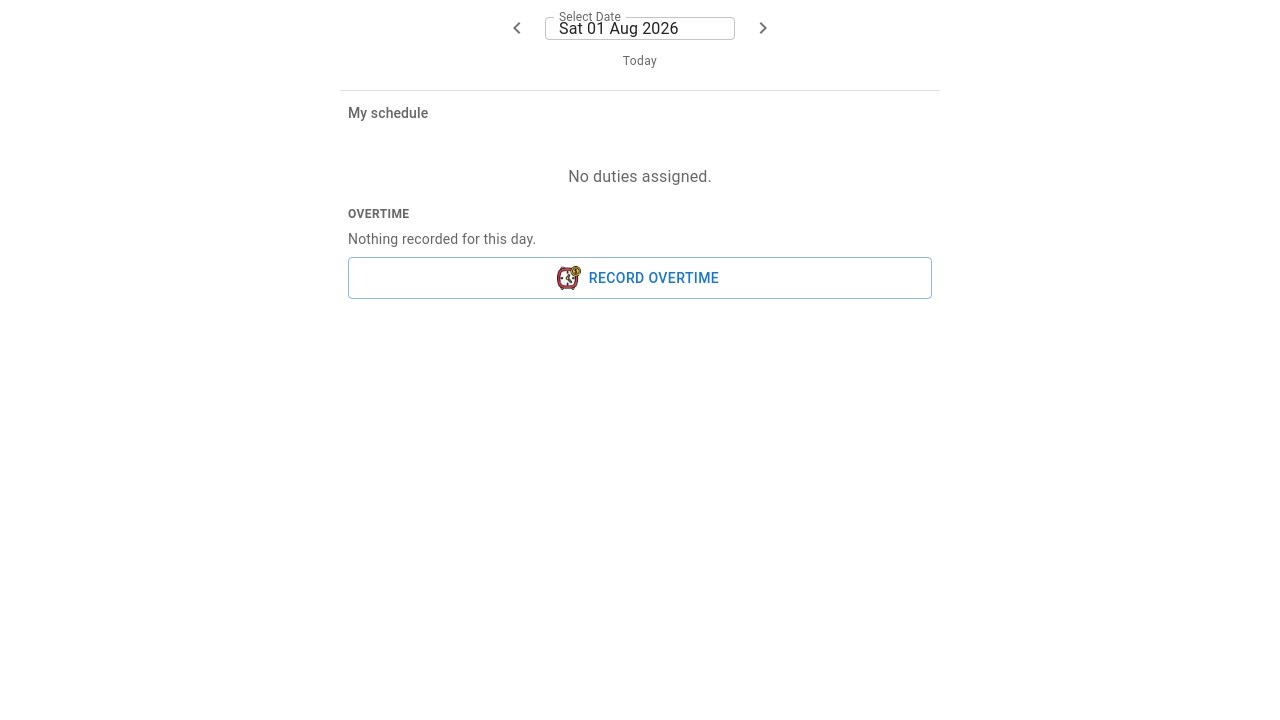
Test: defaults the campus to where I am and offers the other active campuses
expect the text "No duties assigned." is shown: met, box [568,167,712,186]
Click the button "Record overtime" at (640,278), box [348,257,932,299]
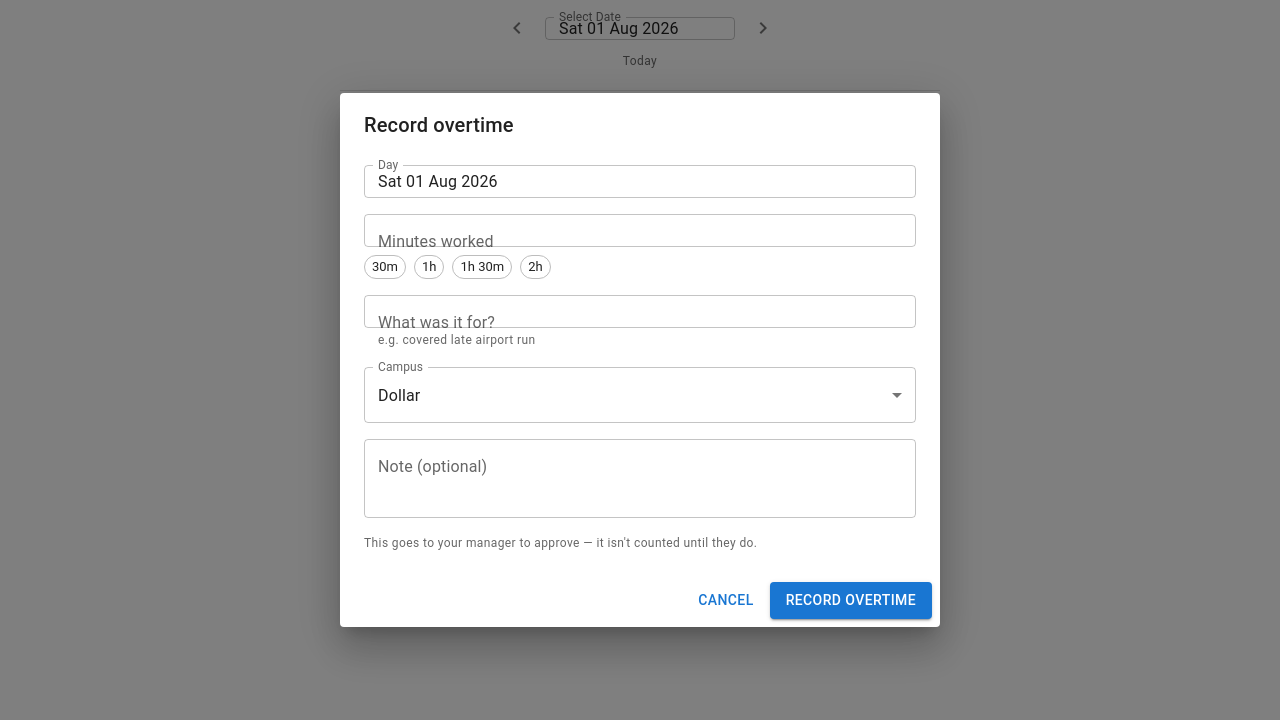
expect the dropdown "Dollar" is shown: met
Click the dropdown at (399,395), box [378,386,420,405]
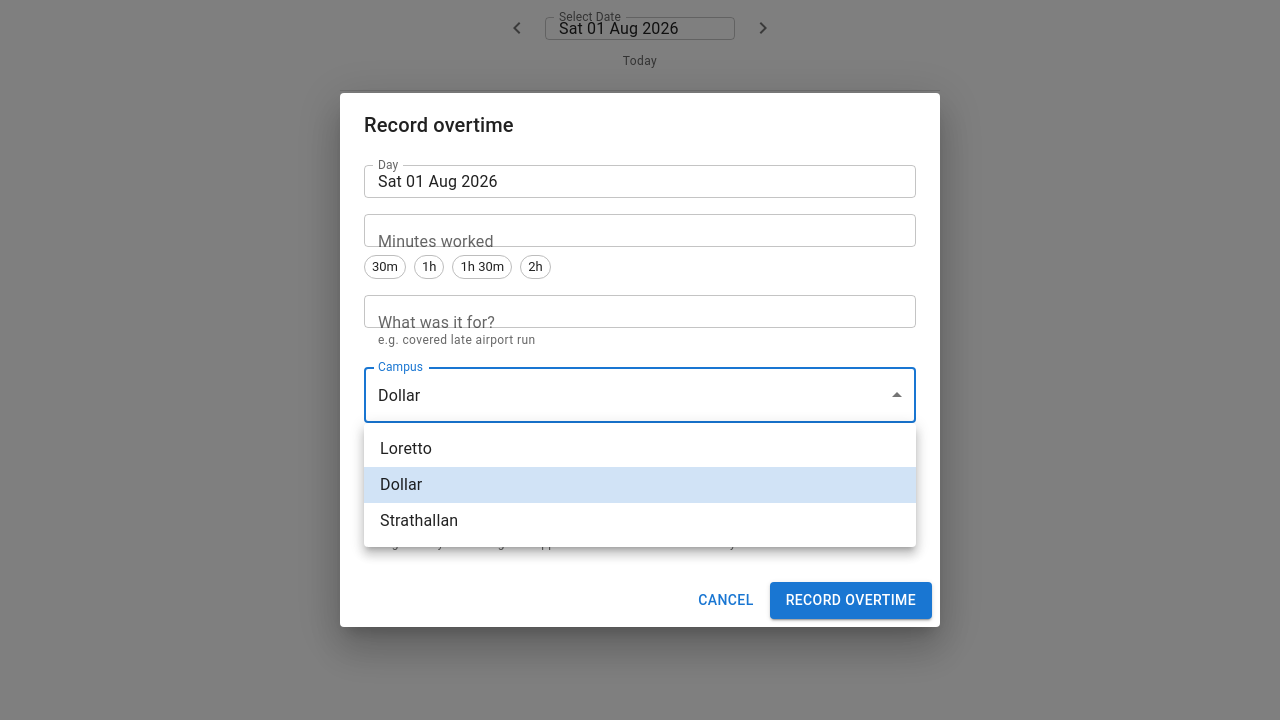
expect the options read "Loretto", "Dollar", "Strathallan", in this order: met, box [380,439,432,458]; [364,467,916,503]; [380,511,458,530]
